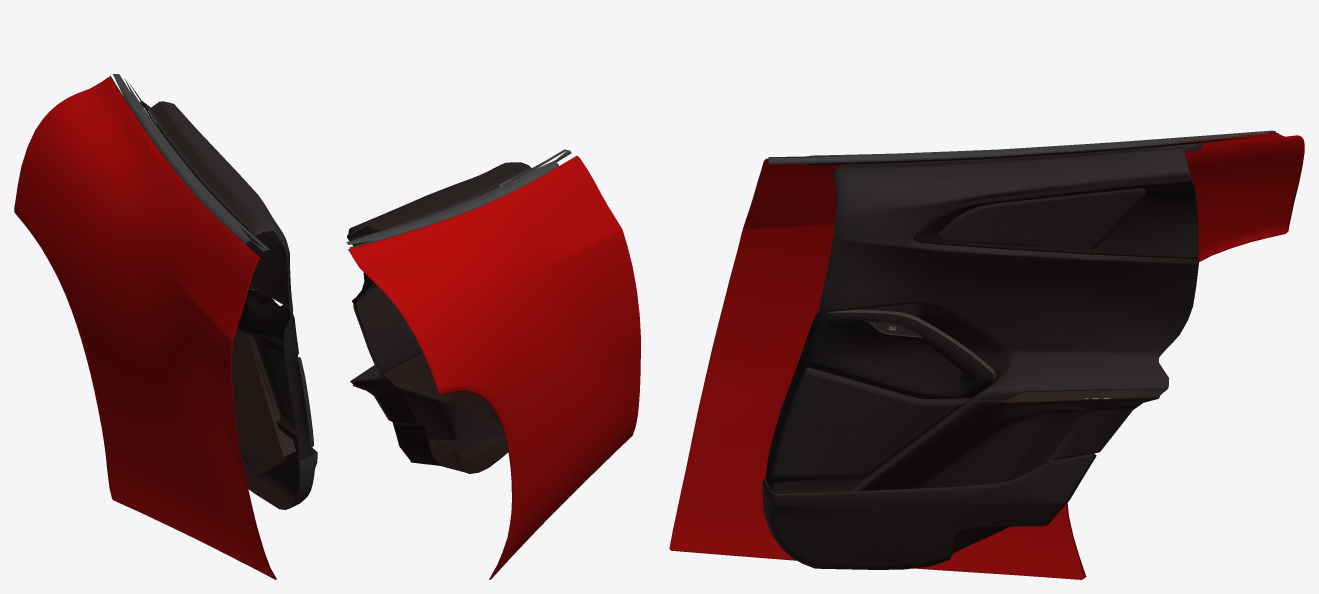
Rendered from door_rr.glb.
3 renders of one model, left to right at view 1: azimuth 30°, elevation 25°; view 2: azimuth 150°, elevation 25°; view 3: azimuth 270°, elevation 25°, orthographic. The views are drawn at different scales.
Visible parts, largest first — view 1: Window_Geo_lodA_Ferrari_PurosangueRewardRecycled_2023Window., Grille5_Geo_lodA_Ferrari_PurosangueRewardRecycled_2023Grille; view 2: Window_Geo_lodA_Ferrari_PurosangueRewardRecycled_2023Window., Grille5_Geo_lodA_Ferrari_PurosangueRewardRecycled_2023Grille; view 3: Grille5_Geo_lodA_Ferrari_PurosangueRewardRecycled_2023Grille, Window_Geo_lodA_Ferrari_PurosangueRewardRecycled_2023Window..
Part boxes in pixels (box(x1,y1,x2,y2)): Window_Geo_lodA_Ferrari_PurosangueRewardRecycled_2023Window.: box(14, 74, 276, 579); Grille5_Geo_lodA_Ferrari_PurosangueRewardRecycled_2023Grille: box(119, 74, 317, 509); Window_Geo_lodA_Ferrari_PurosangueRewardRecycled_2023Window.: box(346, 149, 640, 579); Grille5_Geo_lodA_Ferrari_PurosangueRewardRecycled_2023Grille: box(347, 150, 567, 473); Grille5_Geo_lodA_Ferrari_PurosangueRewardRecycled_2023Grille: box(762, 132, 1268, 569); Window_Geo_lodA_Ferrari_PurosangueRewardRecycled_2023Window.: box(669, 130, 1304, 579).
Size of the model in its own units: 0.00344 by 0.0115 by 0.0104.
8 materials, 3 textured.
